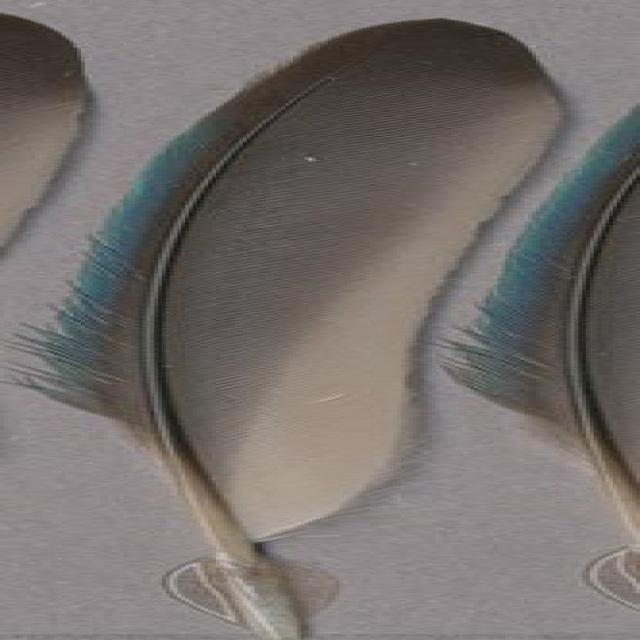feather: (0, 17, 572, 640)
